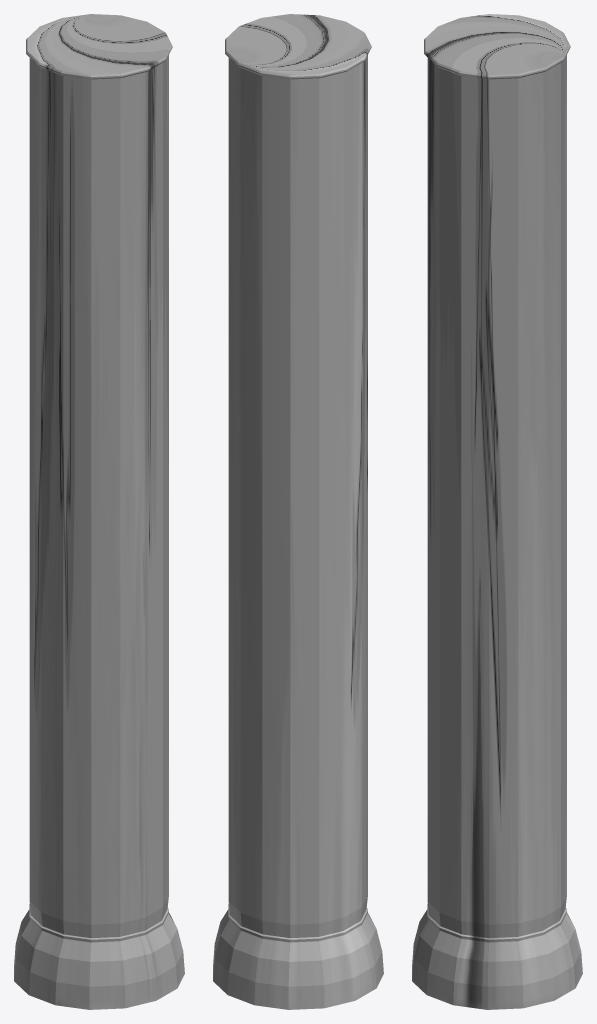
File: column.fbx
The picture shows the model from 3 angles, left to right: view 1: azimuth 30°, elevation 25°; view 2: azimuth 150°, elevation 25°; view 3: azimuth 270°, elevation 25°; orthographic projection.
Visible parts, largest first — view 1: Cylinder; view 2: Cylinder; view 3: Cylinder.
Boxes of the visible parts, <box> form: Cylinder: <box>14,14,184,1009</box>; Cylinder: <box>213,14,383,1009</box>; Cylinder: <box>412,14,582,1009</box>.
Size of the model in its own units: 244 by 1454 by 242.
